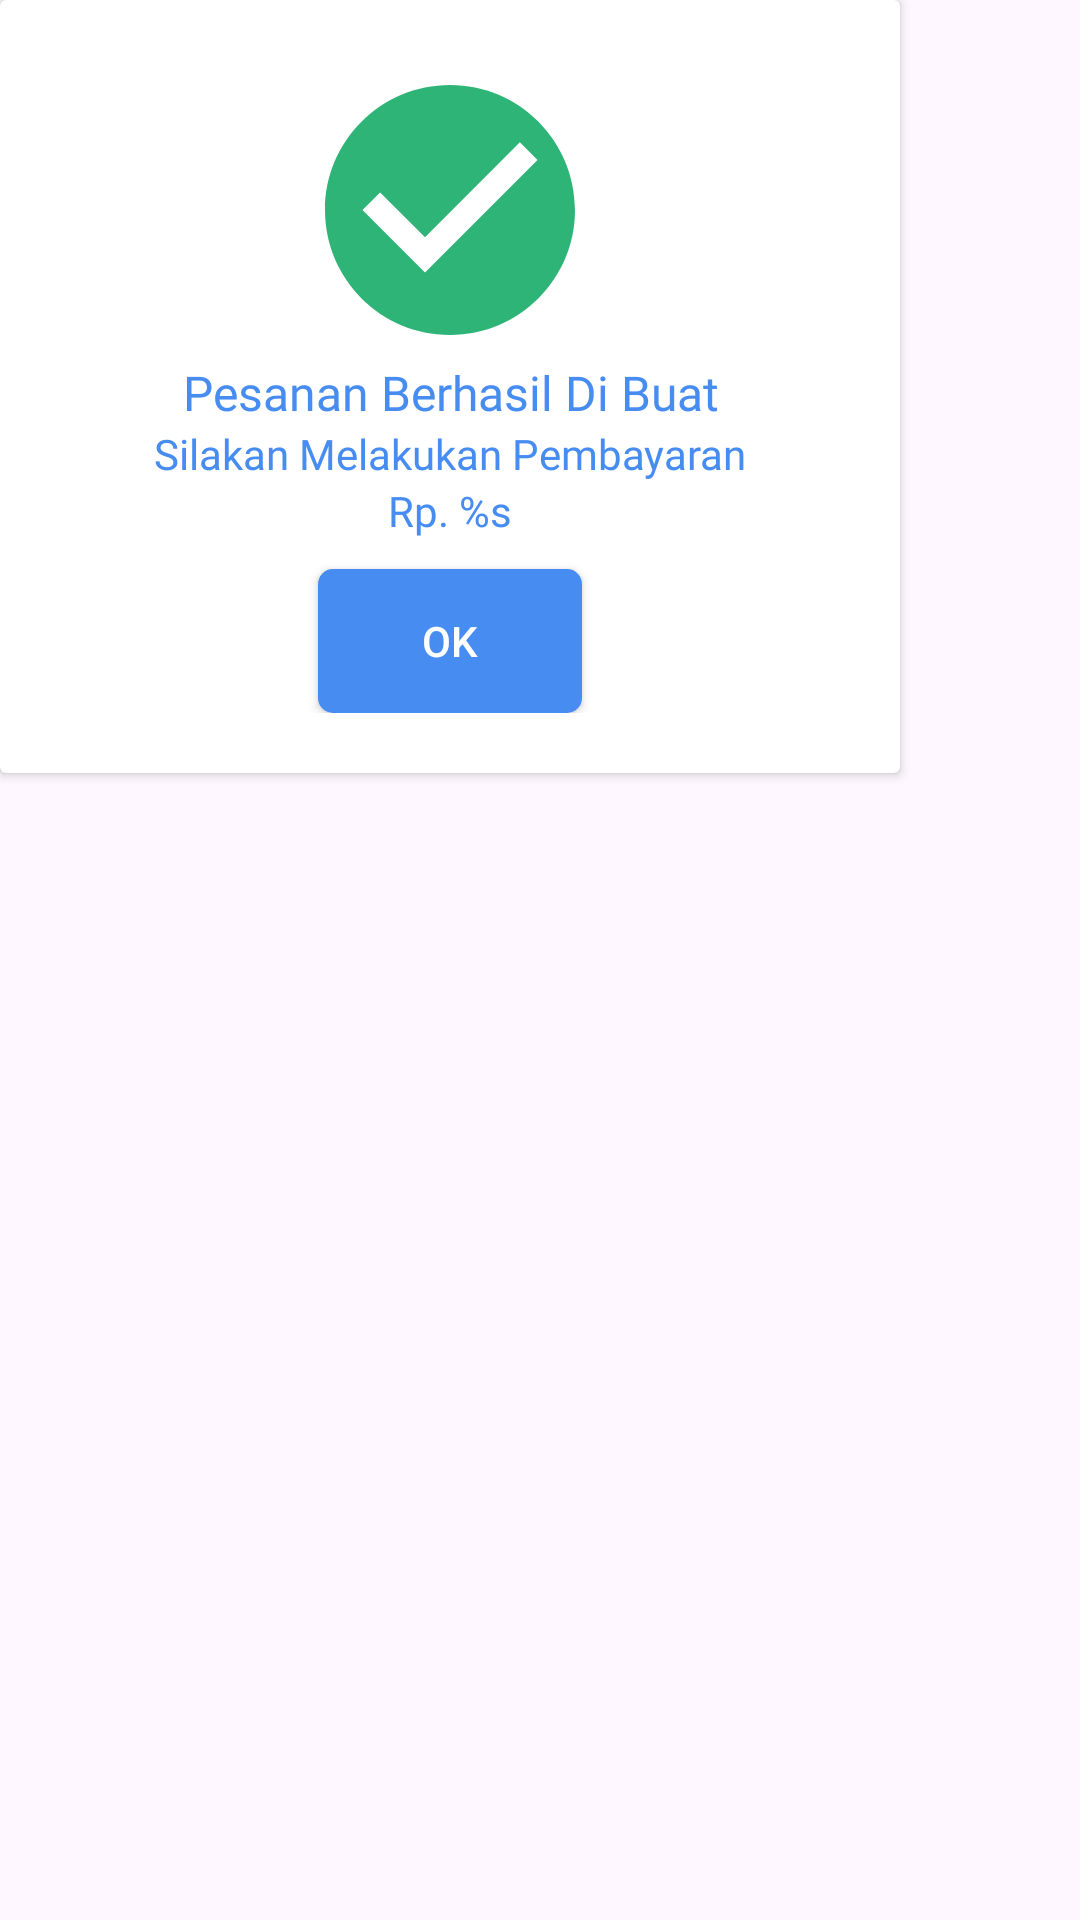

Icon bounding boxes for this 1080*1920 phone screenshot, format (x1, y1, x2, y2):
check circle: (325, 85, 575, 335)
